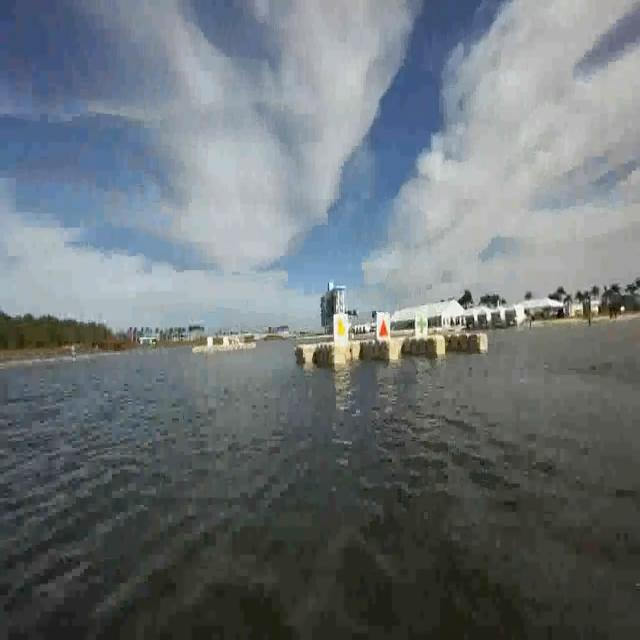blue-cross: (414, 308, 429, 340)
red-dot: (376, 310, 390, 342)
yellow-duck: (332, 313, 350, 338)
